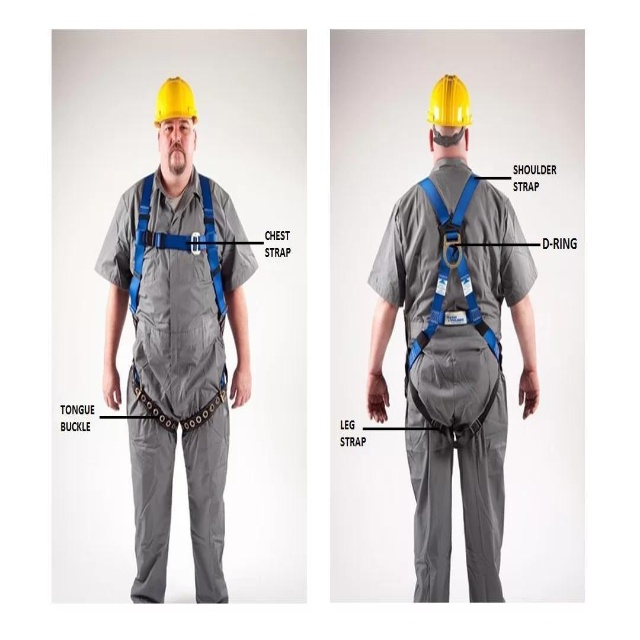Arnes_seguridad: (405, 165, 509, 407), (122, 171, 234, 361)
